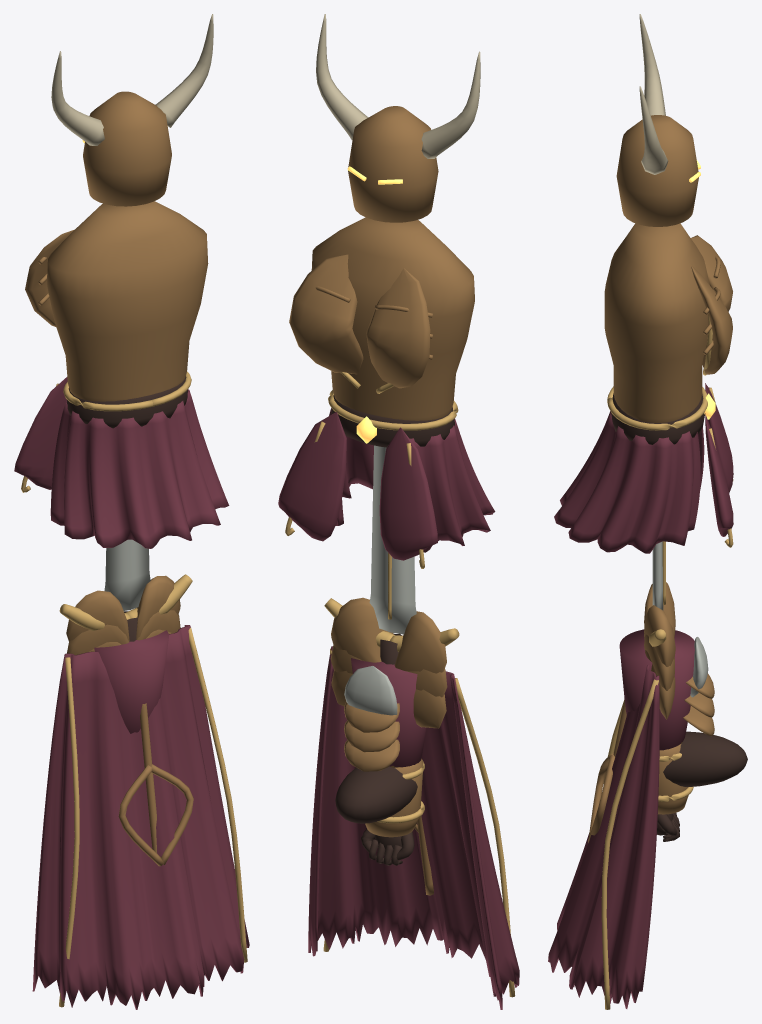
File: elite.glb
3 views of the same model, side by side, from view 1: azimuth 30°, elevation 25°; view 2: azimuth 150°, elevation 25°; view 3: azimuth 270°, elevation 25° (orthographic). The views are drawn at different scales.
Visible parts, largest first — view 1: Cape__wine, Body__bronze, Body__wine, LegL__wine, Cape__gold, Body__bone, Cape__bronze, ArmL__bronze, Weapon__silver, ArmR__bronze, Body__leather, Weapon__gold (+1 smaller); view 2: Body__bronze, Cape__wine, Body__wine, ArmL__bronze, Weapon__silver, Body__bone, KneeL__leather, ArmR__bronze, KneeL__bronze, LegL__wine, KneeL__silver, Body__leather (+6 smaller); view 3: Body__bronze, Cape__wine, Body__wine, LegL__wine, KneeL__leather, Body__bone, Cape__gold, ArmR__bronze, ArmL__bronze, Body__leather, Body__gold, Cape__bronze (+3 smaller).
Boxes of the visible parts, x1,y1,x2,y2 form: Cape__wine: (32, 625, 249, 1009); Body__bronze: (25, 91, 208, 401); Body__wine: (14, 377, 229, 548); LegL__wine: (94, 630, 168, 733); Cape__gold: (59, 628, 247, 1007); Body__bone: (51, 14, 213, 145); Cape__bronze: (118, 703, 193, 866); ArmL__bronze: (66, 590, 129, 655); Weapon__silver: (104, 539, 150, 610); ArmR__bronze: (136, 575, 180, 640); Body__leather: (66, 376, 187, 428); Weapon__gold: (59, 574, 192, 630); Body__bronze: (289, 106, 474, 420); Cape__wine: (308, 646, 519, 1009); Body__wine: (278, 408, 495, 560); ArmL__bronze: (365, 611, 447, 837); Weapon__silver: (369, 445, 416, 634); Body__bone: (316, 14, 480, 158); KneeL__leather: (335, 766, 423, 823); ArmR__bronze: (330, 597, 393, 706); KneeL__bronze: (344, 702, 400, 771); LegL__wine: (351, 658, 426, 767); KneeL__silver: (344, 666, 397, 715); Body__leather: (331, 395, 454, 447); Body__bronze: (604, 115, 732, 422); Cape__wine: (548, 665, 659, 1008); Body__wine: (554, 383, 733, 553); LegL__wine: (619, 629, 694, 750); KneeL__leather: (663, 731, 747, 786); Body__bone: (639, 14, 668, 174); Cape__gold: (601, 679, 658, 1009); ArmR__bronze: (644, 605, 675, 719); ArmL__bronze: (644, 582, 688, 814); Body__leather: (611, 393, 704, 444); Body__gold: (607, 314, 733, 547); Cape__bronze: (588, 698, 626, 842).
Bounding box in the file's own units: 0.7746 × 3.42 × 0.6772.
